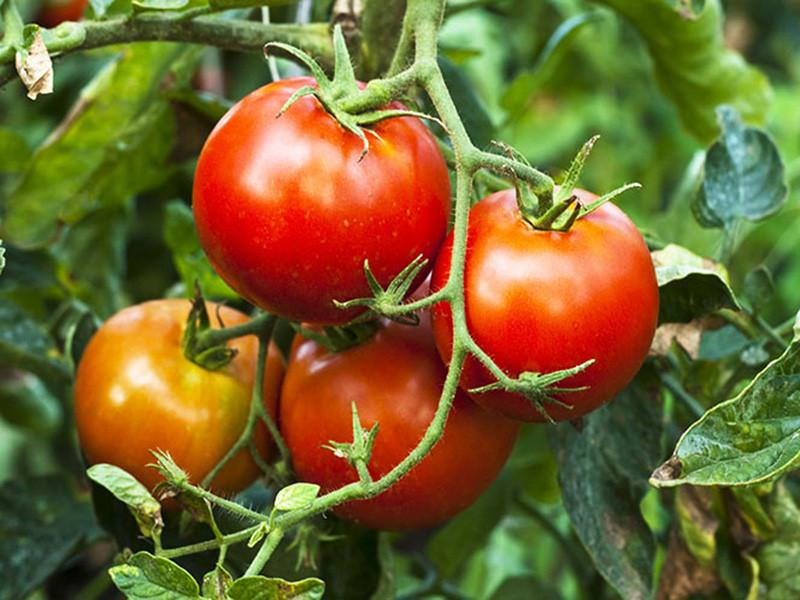stems: (475, 147, 556, 220), (338, 64, 414, 121), (194, 320, 261, 355)
tomato: (191, 76, 455, 327), (430, 185, 660, 423), (282, 327, 520, 531), (78, 299, 284, 510)
